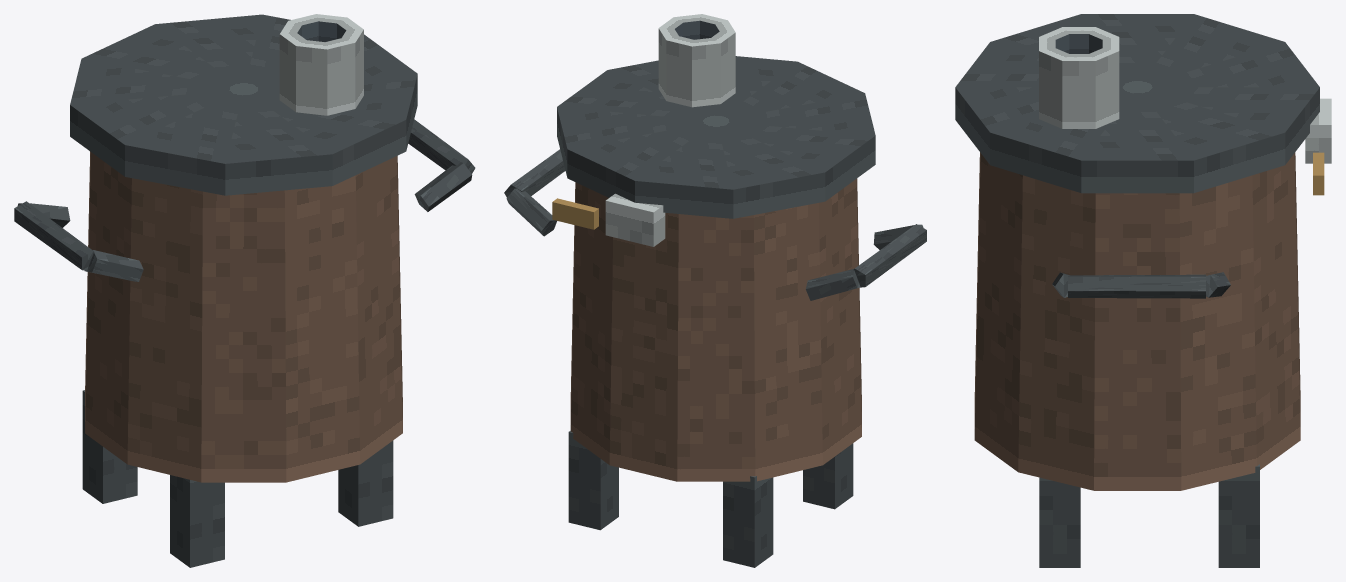
The model's file is f_kiln_portable_full.glb.
3 views of the same model, side by side, from view 1: azimuth 30°, elevation 25°; view 2: azimuth 150°, elevation 25°; view 3: azimuth 270°, elevation 25° (orthographic). The views are drawn at different scales.
Parts seen in each view (by area): view 1: block_sealed-charcoal-chamber, block_kiln-ring-lid, block_leg--0.132875-0.11937500000000001, block_leg-0.132875-0.11937500000000001, block_foldaway-kiln-carry-handle-2 (×2), block_leg--0.132875--0.11937500000000001, block_foldaway-kiln-carry-handle-3 (×2), block_gas-vent-neck-outer-2, block_gas-vent-neck-outer-1, block_gas-vent-neck-outer-3, block_gas-vent-neck-outer-0; view 2: block_sealed-charcoal-chamber, block_kiln-ring-lid, block_leg--0.132875--0.11937500000000001, block_leg-0.132875--0.11937500000000001, block_foldaway-kiln-carry-handle-2 (×2), block_kiln-lid-latch, block_leg--0.132875-0.11937500000000001, block_foldaway-kiln-carry-handle-1 (×2), block_gas-vent-neck-outer-4, block_gas-vent-neck-outer-5, block_loaded-kiln-indicator, block_gas-vent-neck-outer-3 (+1 smaller); view 3: block_sealed-charcoal-chamber, block_kiln-ring-lid, block_leg-0.132875--0.11937500000000001, block_leg-0.132875-0.11937500000000001, block_foldaway-kiln-carry-handle-2, block_gas-vent-neck-outer-7, block_gas-vent-neck-outer-6, block_gas-vent-neck-outer-0, block_kiln-lid-latch, block_loaded-kiln-indicator, block_foldaway-kiln-carry-handle-1.
Part boxes in pixels (x1,y1,x2,y2): block_sealed-charcoal-chamber: (85, 151, 402, 482); block_kiln-ring-lid: (70, 14, 417, 195); block_leg--0.132875-0.11937500000000001: (170, 475, 224, 567); block_leg-0.132875-0.11937500000000001: (338, 440, 393, 526); block_foldaway-kiln-carry-handle-2 (×2): (14, 119, 475, 270); block_leg--0.132875--0.11937500000000001: (82, 390, 137, 503); block_foldaway-kiln-carry-handle-3 (×2): (85, 162, 472, 281); block_gas-vent-neck-outer-2: (296, 46, 327, 115); block_gas-vent-neck-outer-1: (327, 43, 355, 115); block_gas-vent-neck-outer-3: (279, 34, 295, 111); block_gas-vent-neck-outer-0: (355, 29, 363, 108); block_sealed-charcoal-chamber: (570, 178, 861, 481); block_kiln-ring-lid: (557, 56, 875, 218); block_leg--0.132875--0.11937500000000001: (723, 476, 773, 567); block_leg-0.132875--0.11937500000000001: (568, 431, 618, 530); block_foldaway-kiln-carry-handle-2 (×2): (504, 149, 926, 287); block_kiln-lid-latch: (605, 193, 665, 246); block_leg--0.132875-0.11937500000000001: (803, 443, 853, 509); block_foldaway-kiln-carry-handle-1 (×2): (506, 188, 860, 300); block_gas-vent-neck-outer-4: (692, 43, 720, 107); block_gas-vent-neck-outer-5: (666, 40, 691, 107); block_loaded-kiln-indicator: (552, 198, 598, 229); block_gas-vent-neck-outer-3: (721, 33, 735, 103); block_sealed-charcoal-chamber: (974, 152, 1300, 490); block_kiln-ring-lid: (955, 14, 1319, 193); block_leg-0.132875--0.11937500000000001: (1218, 464, 1259, 567); block_leg-0.132875-0.11937500000000001: (1039, 477, 1080, 567); block_foldaway-kiln-carry-handle-2: (1068, 274, 1205, 298); block_gas-vent-neck-outer-7: (1062, 61, 1095, 128); block_gas-vent-neck-outer-6: (1095, 51, 1119, 128); block_gas-vent-neck-outer-0: (1039, 51, 1062, 128); block_kiln-lid-latch: (1305, 98, 1331, 163); block_loaded-kiln-indicator: (1313, 152, 1324, 195); block_foldaway-kiln-carry-handle-1: (1206, 272, 1230, 297).
Size of the model in its own units: 0.6228 by 0.732 by 0.5015.
1 material, 1 textured.
